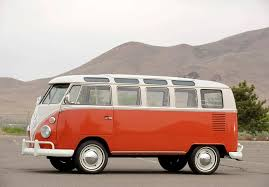bus: (20, 73, 240, 176)
